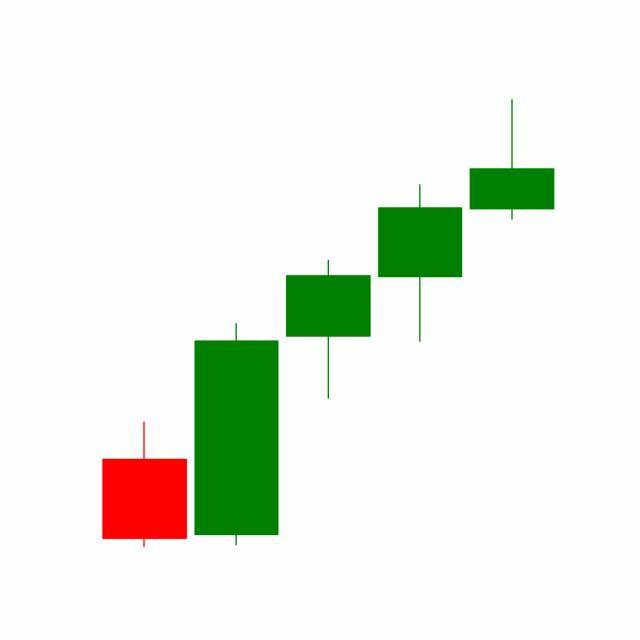Advance Block: (190, 180, 467, 548)
